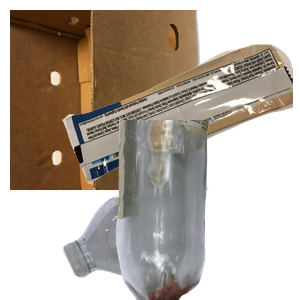cardboard: (10, 10, 211, 190)
glass: (113, 120, 300, 300)
plastic: (60, 190, 300, 280)
trash: (60, 42, 300, 219)
